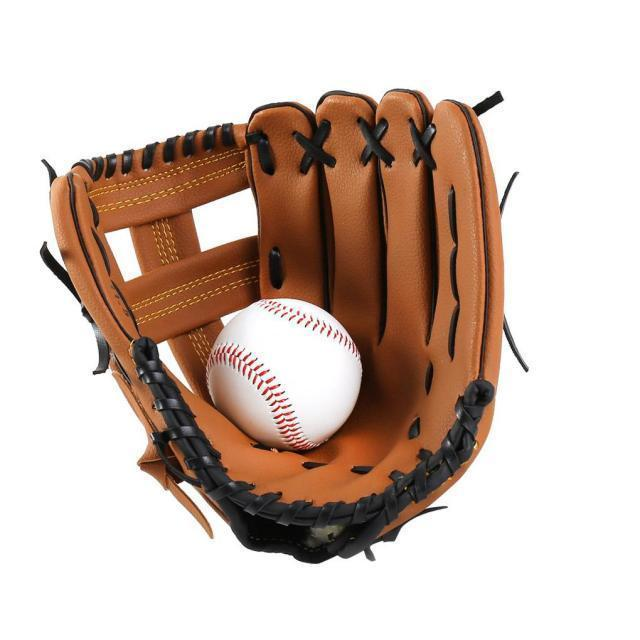sports ball: (202, 289, 378, 445)
